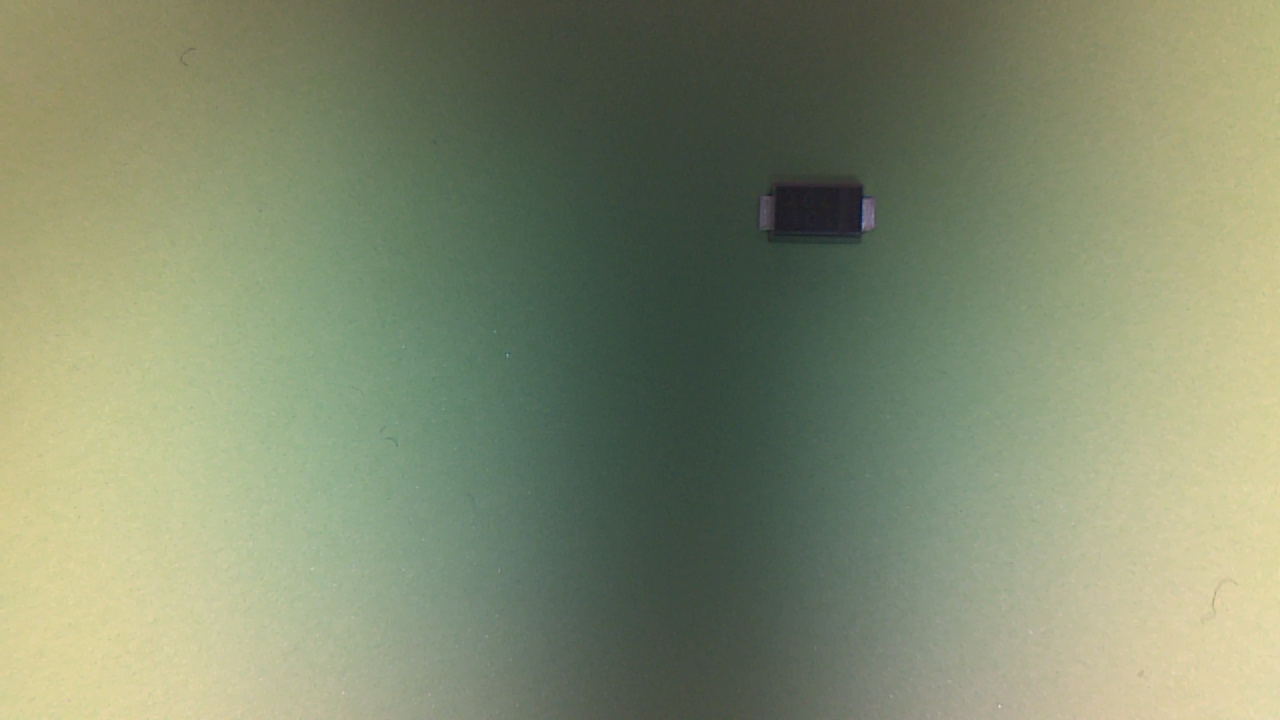Diode: (758, 186, 886, 252)
